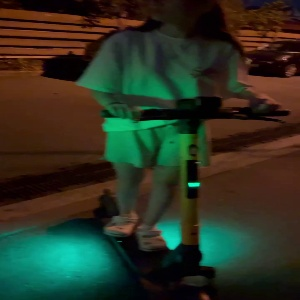human on a scooter: (74, 1, 291, 300)
